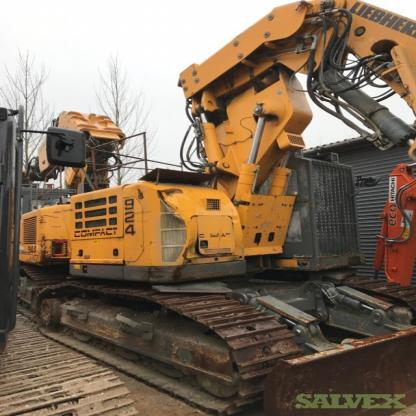excavator: (23, 12, 412, 400)
